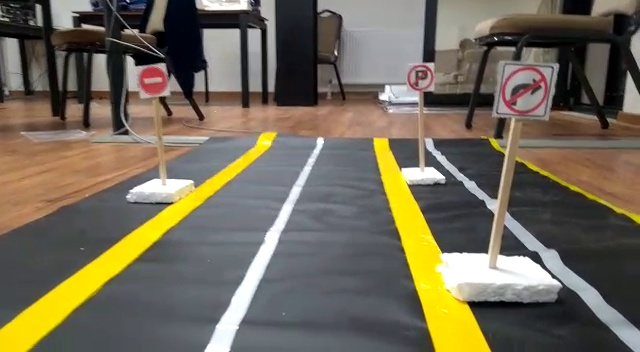girisi_olmayan_yol: (136, 65, 170, 96)
park_yapilmaz: (409, 64, 435, 92)
saga_donulmez: (498, 63, 550, 115)
